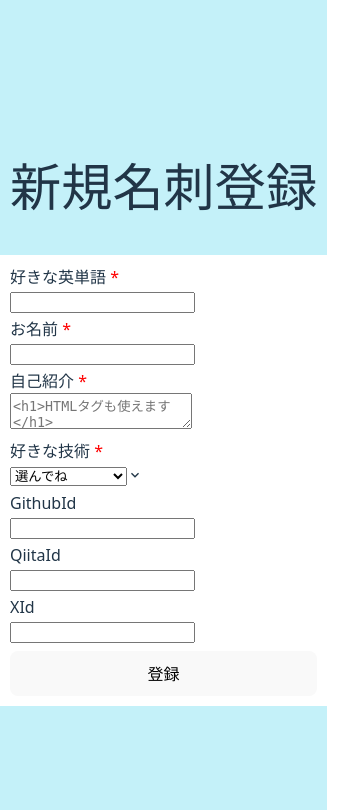
Test: RegistCard › IDが未入力の状態で登録ボタンを押すとエラーメッセージが表示されること
The width and height of the screenshot is (344, 810).
// IDフィールド以外を入力
In the field with test id "name": (102, 354) [10,344,195,365], type "テストユーザー"
In the text box with test id "description": (101, 411) [10,393,192,429], type "<p>テストユーザーの説明</p>"
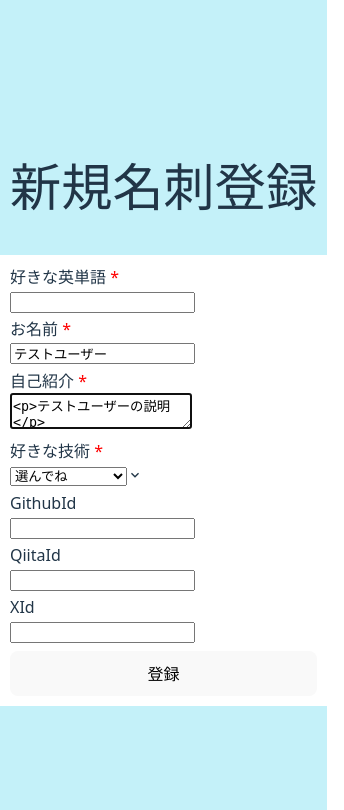
Select "React" in the dropdown with test id "favorite_technique_id": (68, 476) [10,467,127,486]
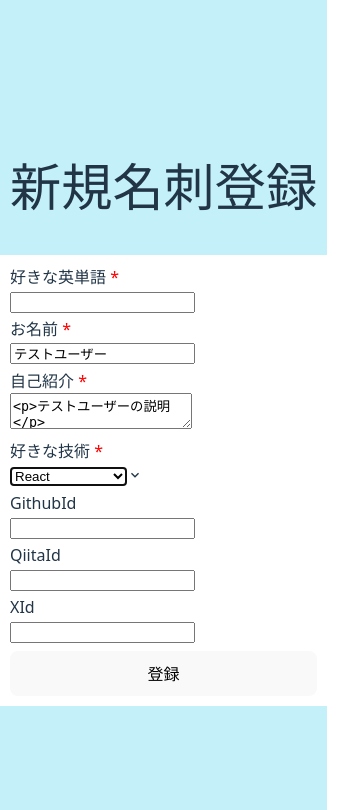
In the field with test id "github_id": (102, 528) [10,518,195,539], type "testuser"
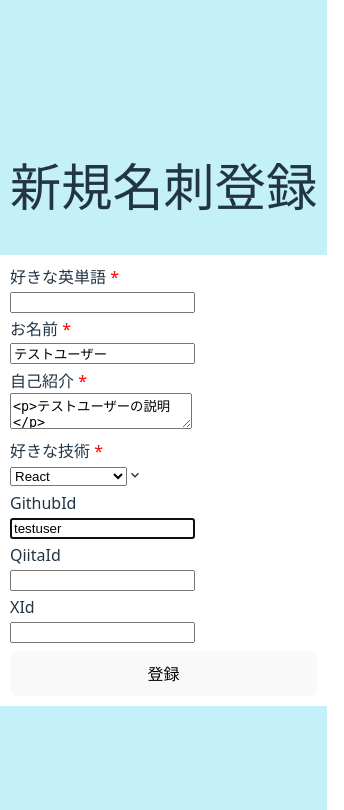
In the field with test id "qiita_id": (102, 580) [10,570,195,591], type "testuser"
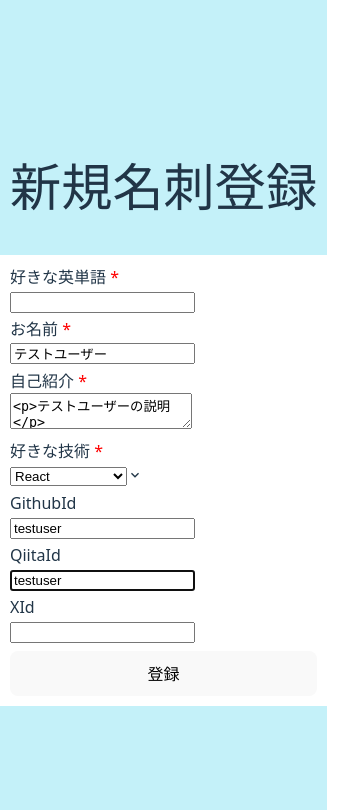
In the field with test id "x_id": (102, 632) [10,622,195,643], type "testuser"
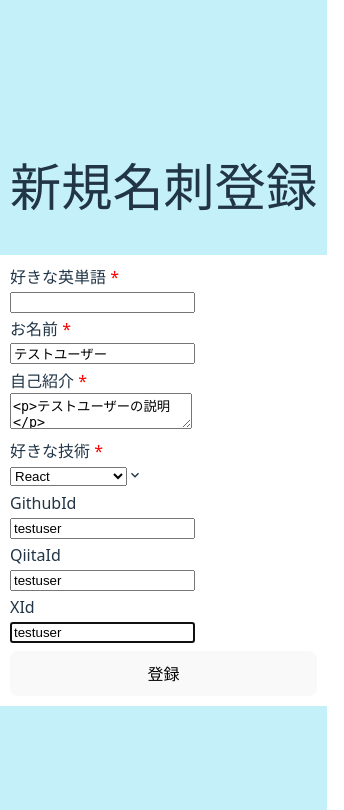
// 登録ボタンをクリック
Click the button with test id "submit-button": (164, 674) [10,651,317,696]
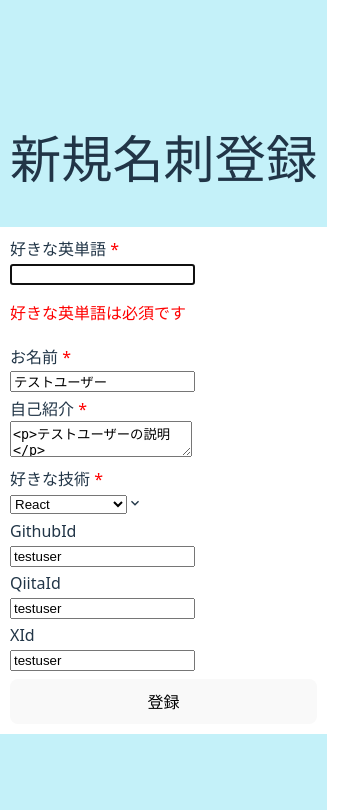
Expected: the text "好きな英単語は必須です" is shown, [10,302,186,324]
